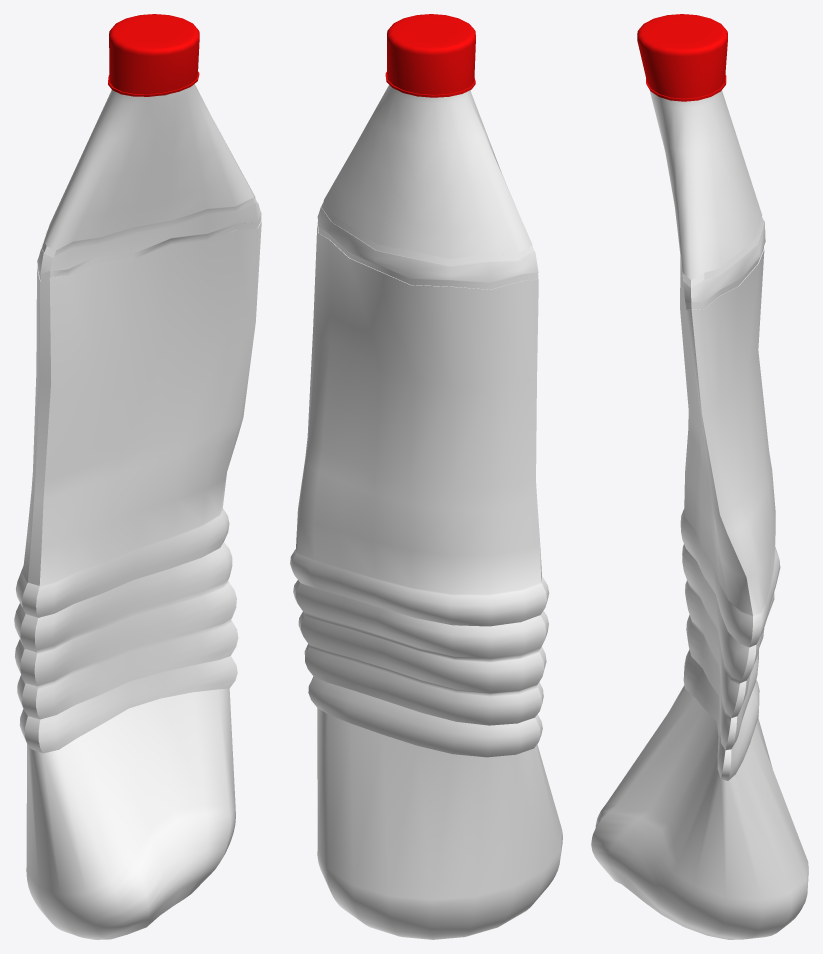
The model's file is chai3.glb.
The picture shows the model from 3 angles, left to right: view 1: azimuth 30°, elevation 25°; view 2: azimuth 150°, elevation 25°; view 3: azimuth 270°, elevation 25°; orthographic projection. The views are drawn at different scales.
Visible parts, largest first — view 1: Cylinder006_green bottle _0, Cylinder006_Blue Cap_0; view 2: Cylinder006_green bottle _0, Cylinder006_Blue Cap_0; view 3: Cylinder006_green bottle _0, Cylinder006_Blue Cap_0.
Part boxes in pixels (x1,y1,x2,y2): Cylinder006_green bottle _0: [14, 84, 261, 939]; Cylinder006_Blue Cap_0: [108, 14, 199, 96]; Cylinder006_green bottle _0: [290, 85, 562, 939]; Cylinder006_Blue Cap_0: [385, 14, 475, 97]; Cylinder006_green bottle _0: [591, 90, 808, 939]; Cylinder006_Blue Cap_0: [637, 14, 727, 101].
Size of the model in its own units: 0.0211 by 0.0758 by 0.0165.
